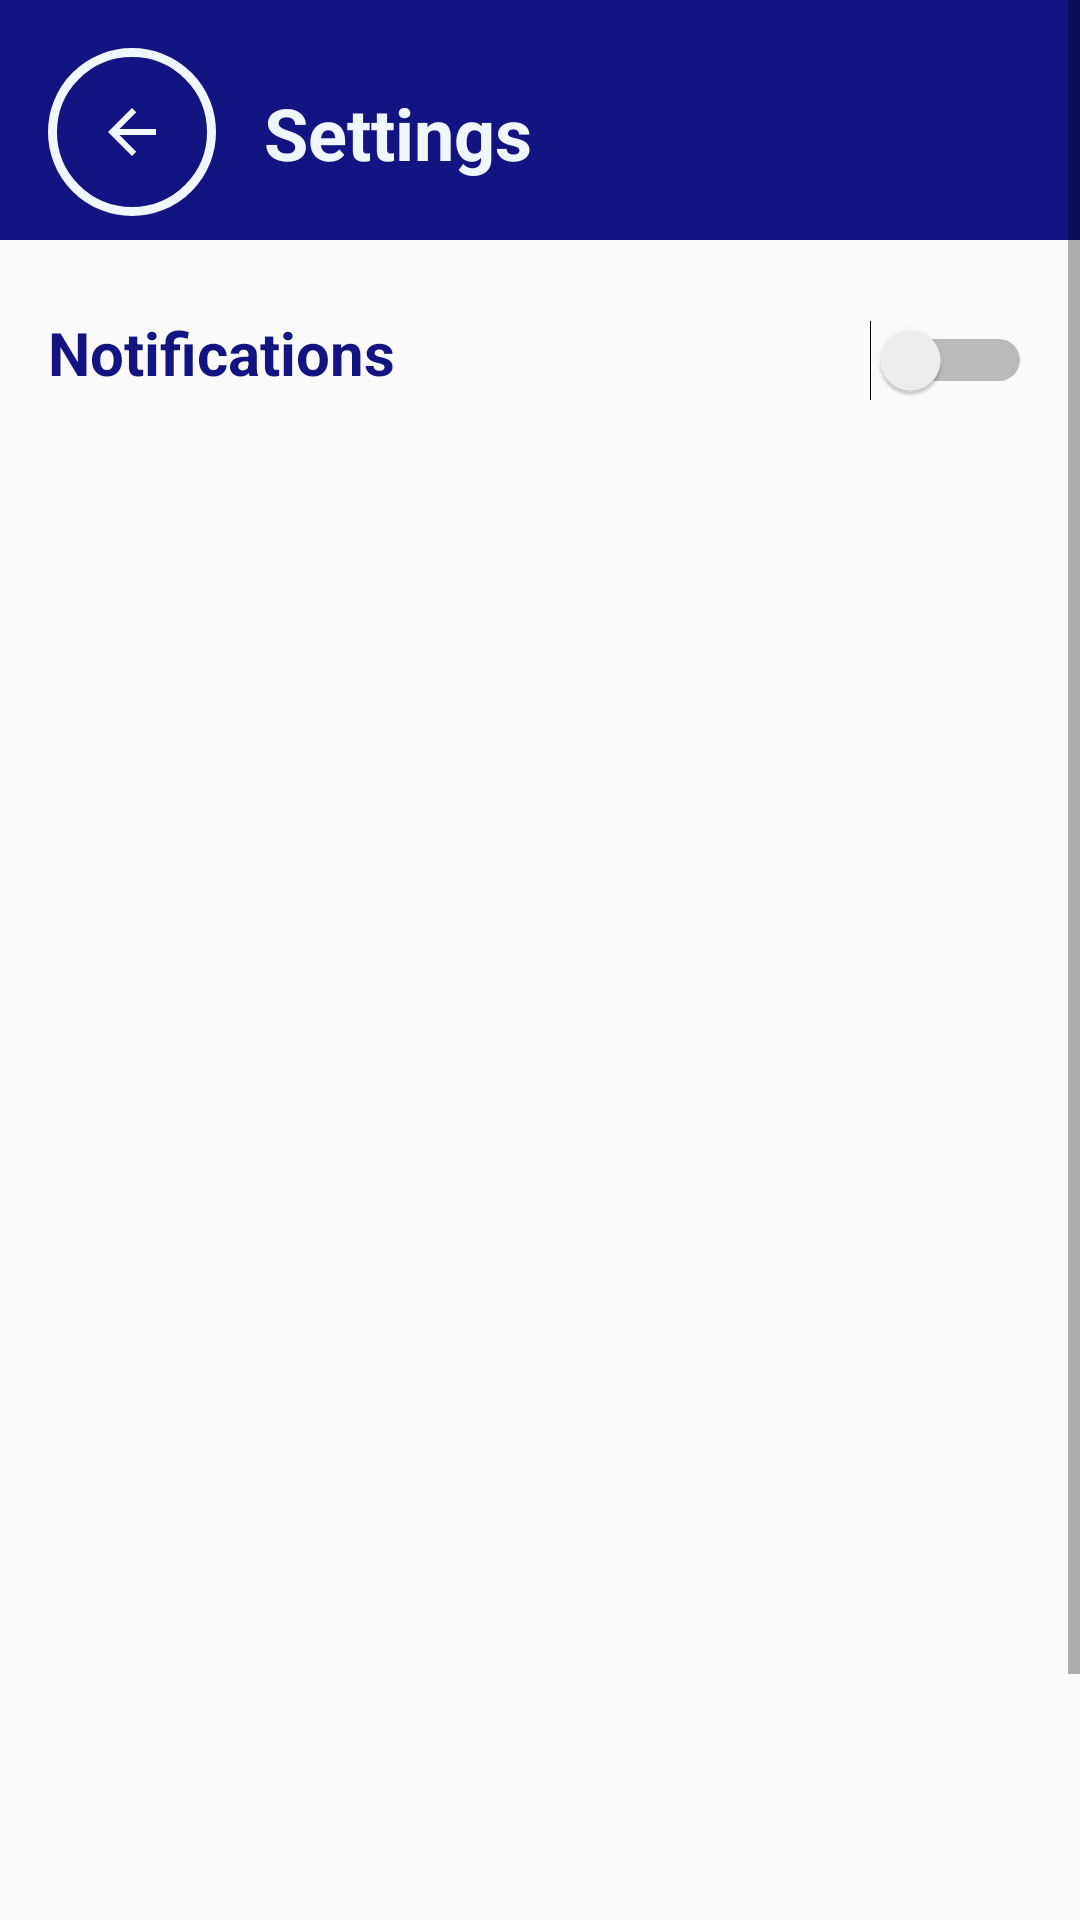

Screen size 1080*1920. Icon name, then its box in pixels as (x1, y1, x2, y2):
Back Button: (48, 48, 216, 216)
